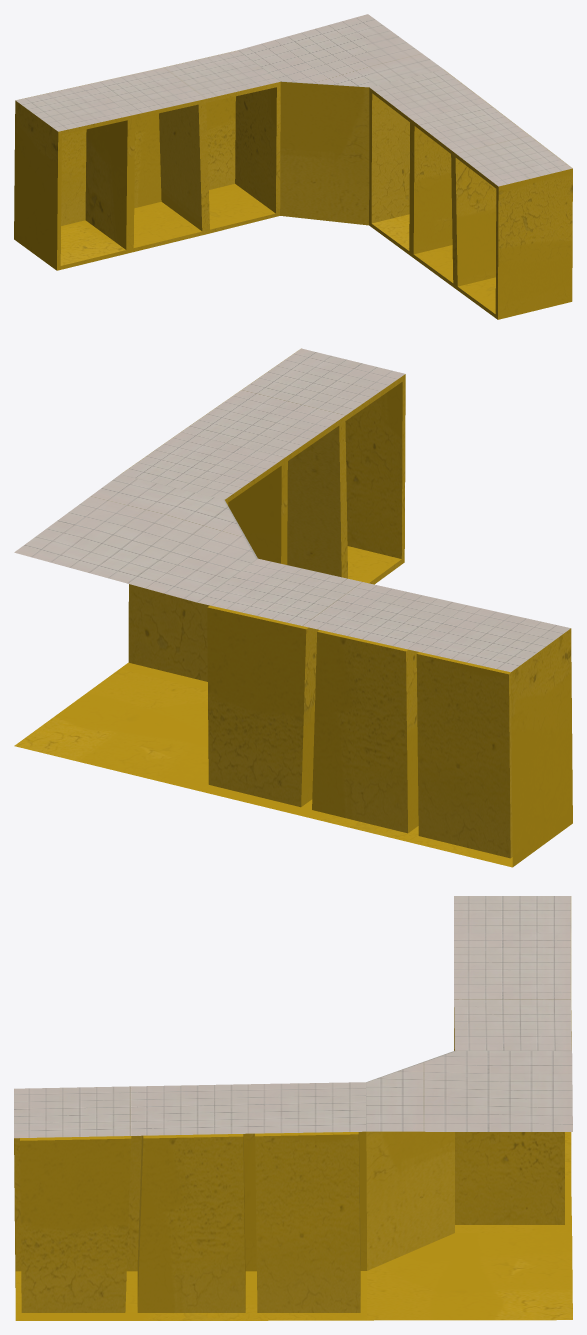
The model's file is cupboard01.FBX.
The picture shows the model from 3 angles, top to bottom: view 1: azimuth 30°, elevation 25°; view 2: azimuth 150°, elevation 25°; view 3: azimuth 270°, elevation 25°; orthographic projection. The views are drawn at different scales.
Parts seen in each view (by area): view 1: Corner_Cupboard; view 2: Corner_Cupboard; view 3: Corner_Cupboard.
Part boxes in pixels (x1,y1,x2,y2): Corner_Cupboard: (14, 14, 572, 319); Corner_Cupboard: (14, 348, 572, 867); Corner_Cupboard: (14, 896, 572, 1320).
Size of the model in its own units: 9.53 by 3.56 by 9.53.
1 material, 1 textured.
